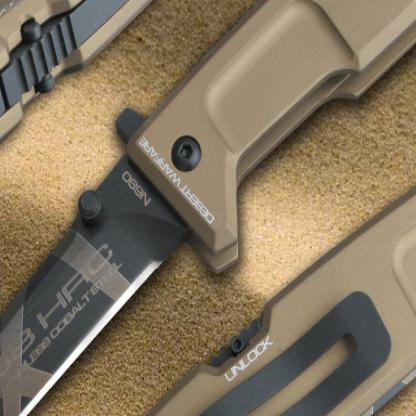knife: (0, 134, 194, 415)
